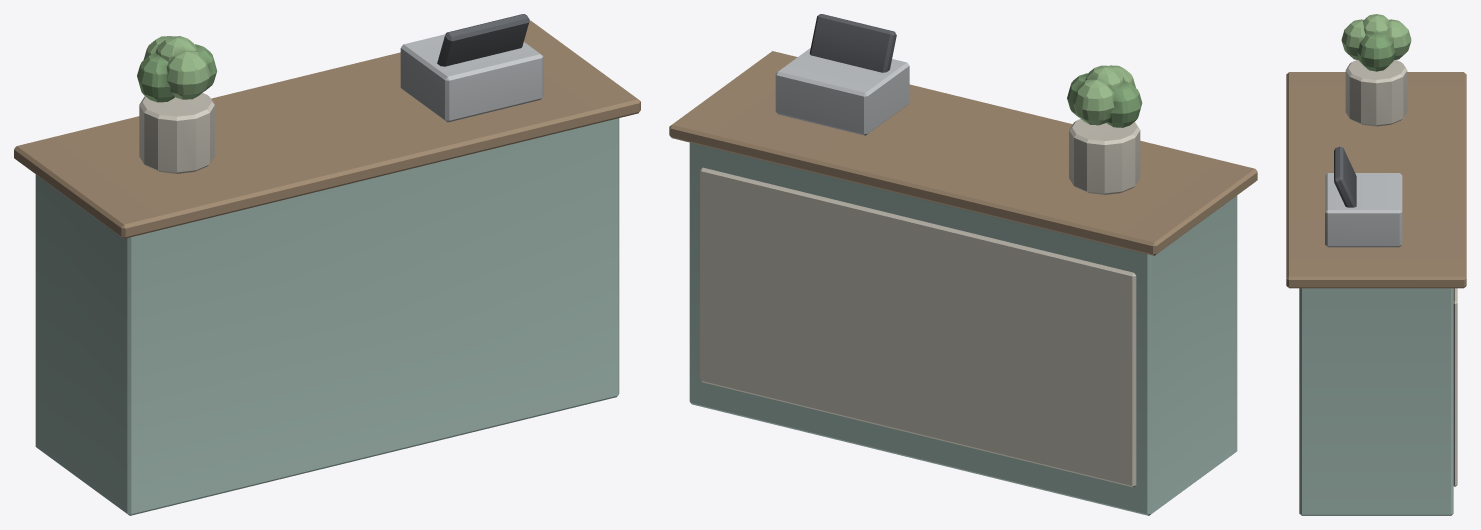
File: petshop_counter.glb
3 renders of one model, left to right at view 1: azimuth 30°, elevation 25°; view 2: azimuth 150°, elevation 25°; view 3: azimuth 270°, elevation 25°, orthographic. The views are drawn at different scales.
Size of the model in its own units: 1.9 by 1.47 by 0.7.
